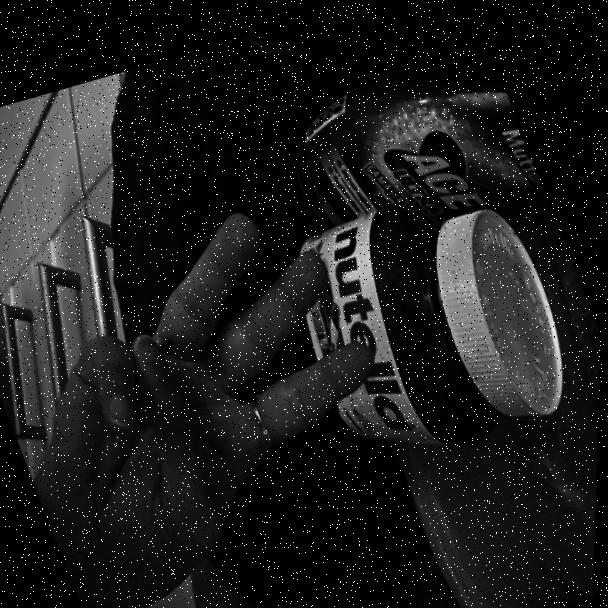five: (0, 127, 456, 608)
